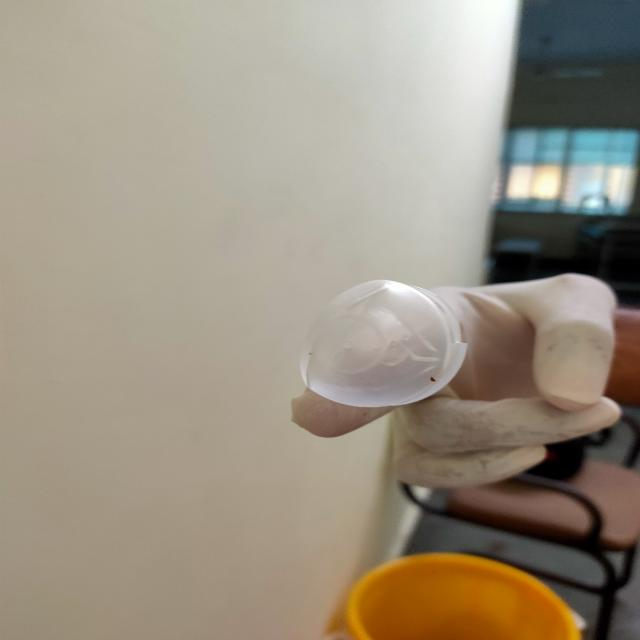B3: (300, 278, 466, 405)
